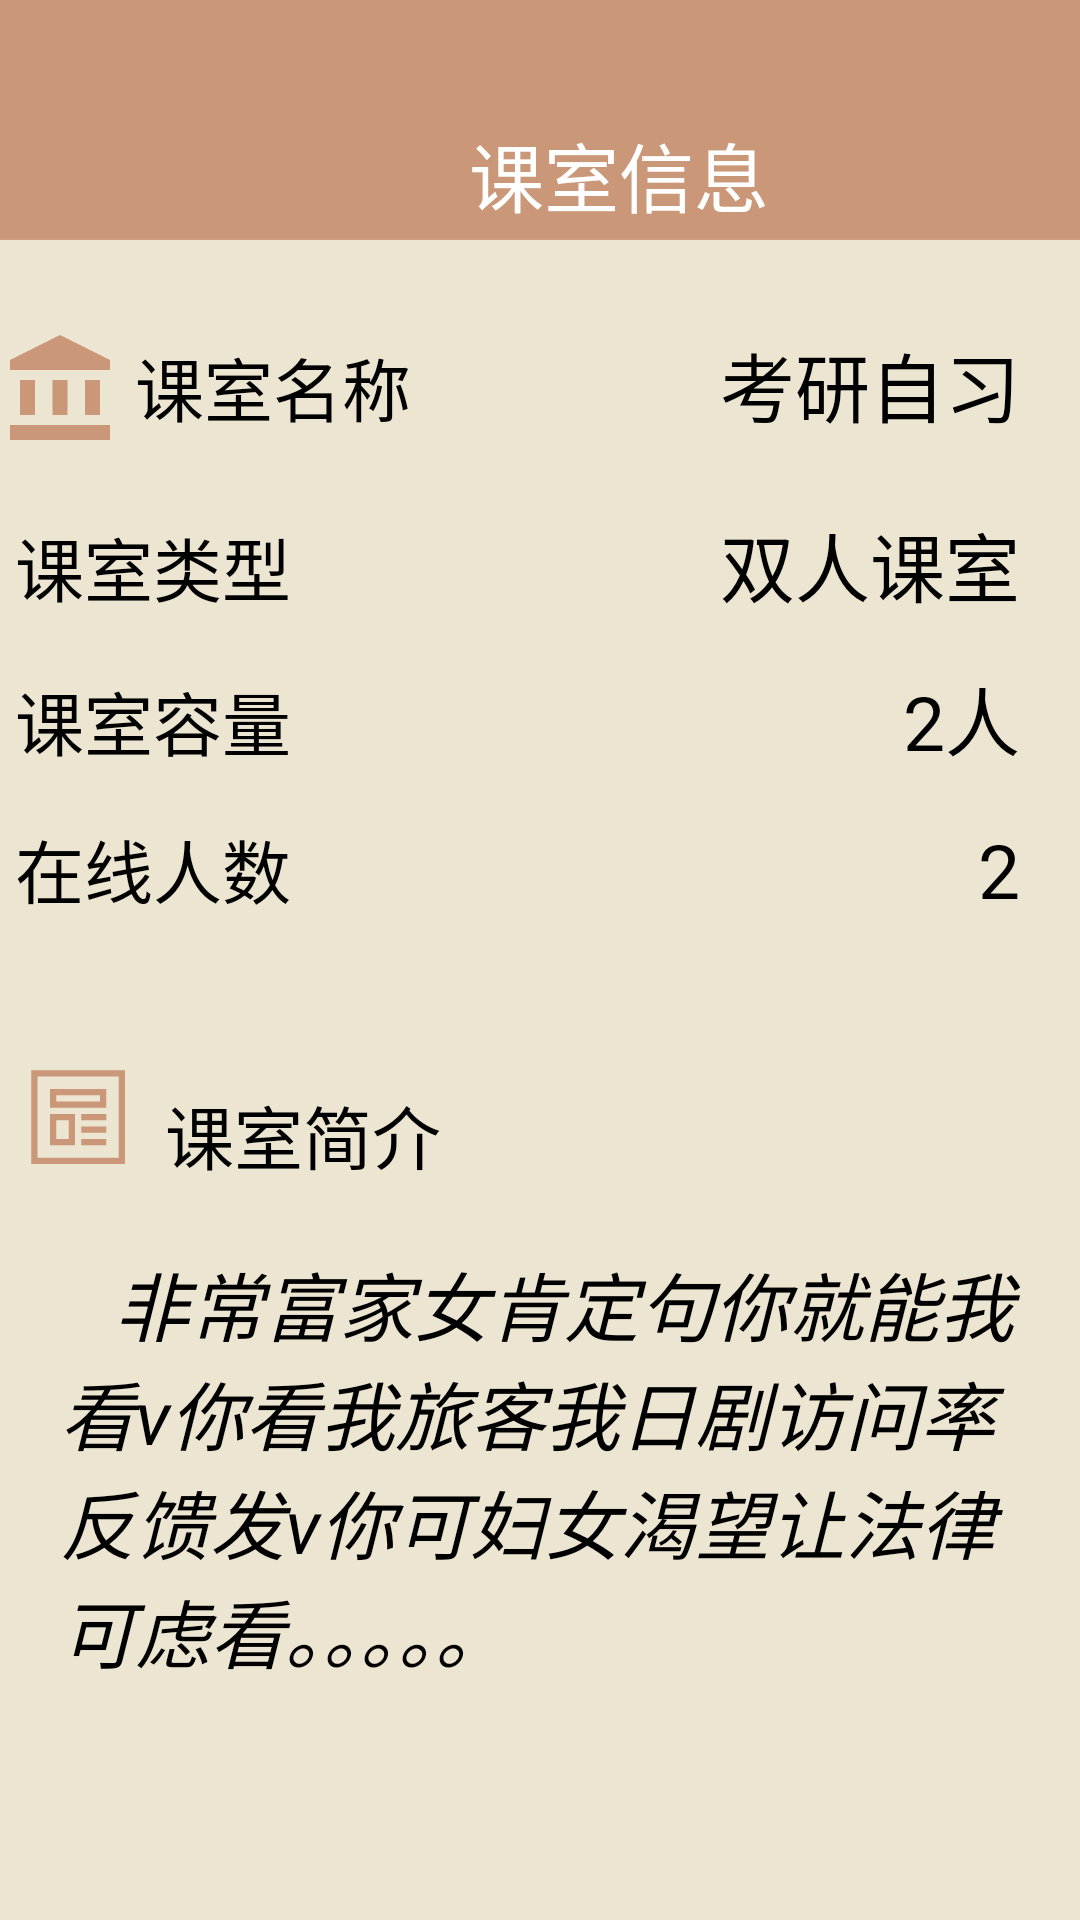

Icons on this 1080×1920 Android screen, each with its box as (x1, y1, x2, y2):
account balance: (10, 335, 110, 440)
